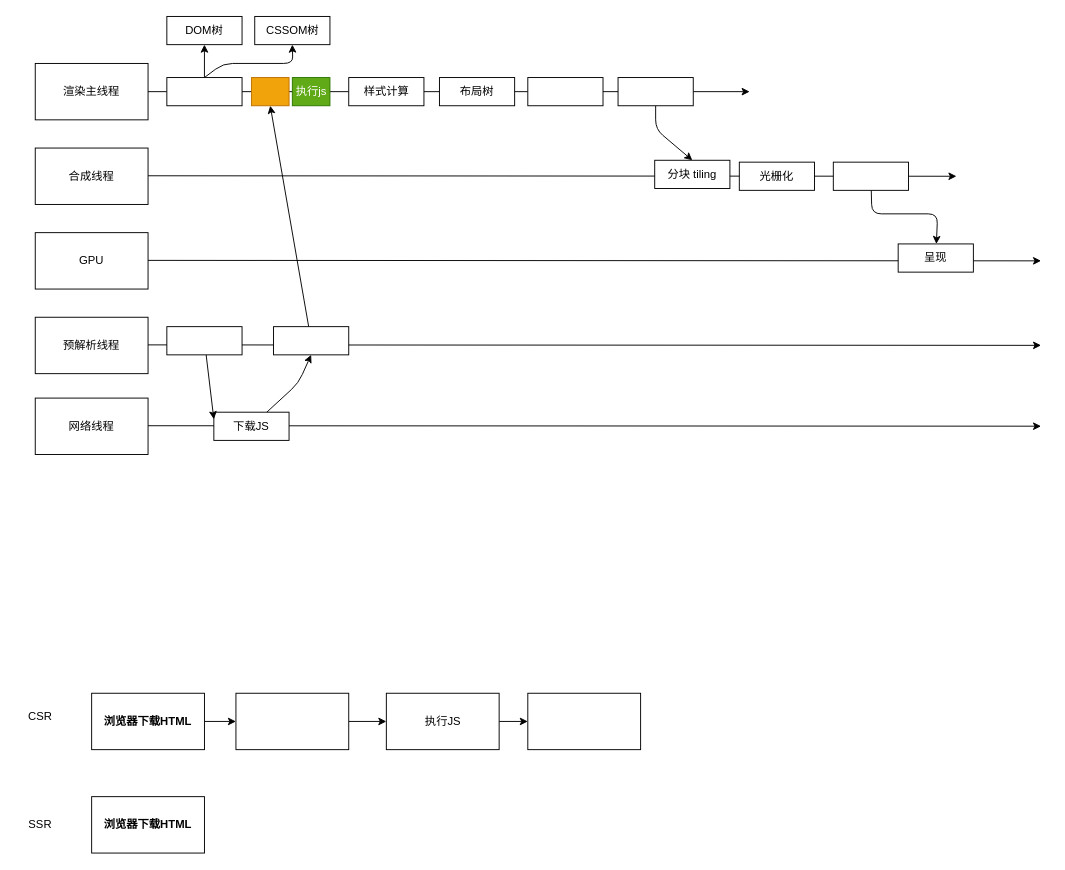
Some shapes in this 1065 by 870 pixel diagram are drawn without their labels. Here are the shapes that lost their labels. From the top down, the centre of each, then its label:
At point (204, 91): "解析HTML".
At point (270, 91): "暂停".
At point (565, 91): "分层".
At point (655, 91): "绘制".
At point (870, 175): "Draw".
At point (204, 340): "快速浏览".
At point (292, 721): "下载JavaScript脚本".
At point (584, 721): "end".
